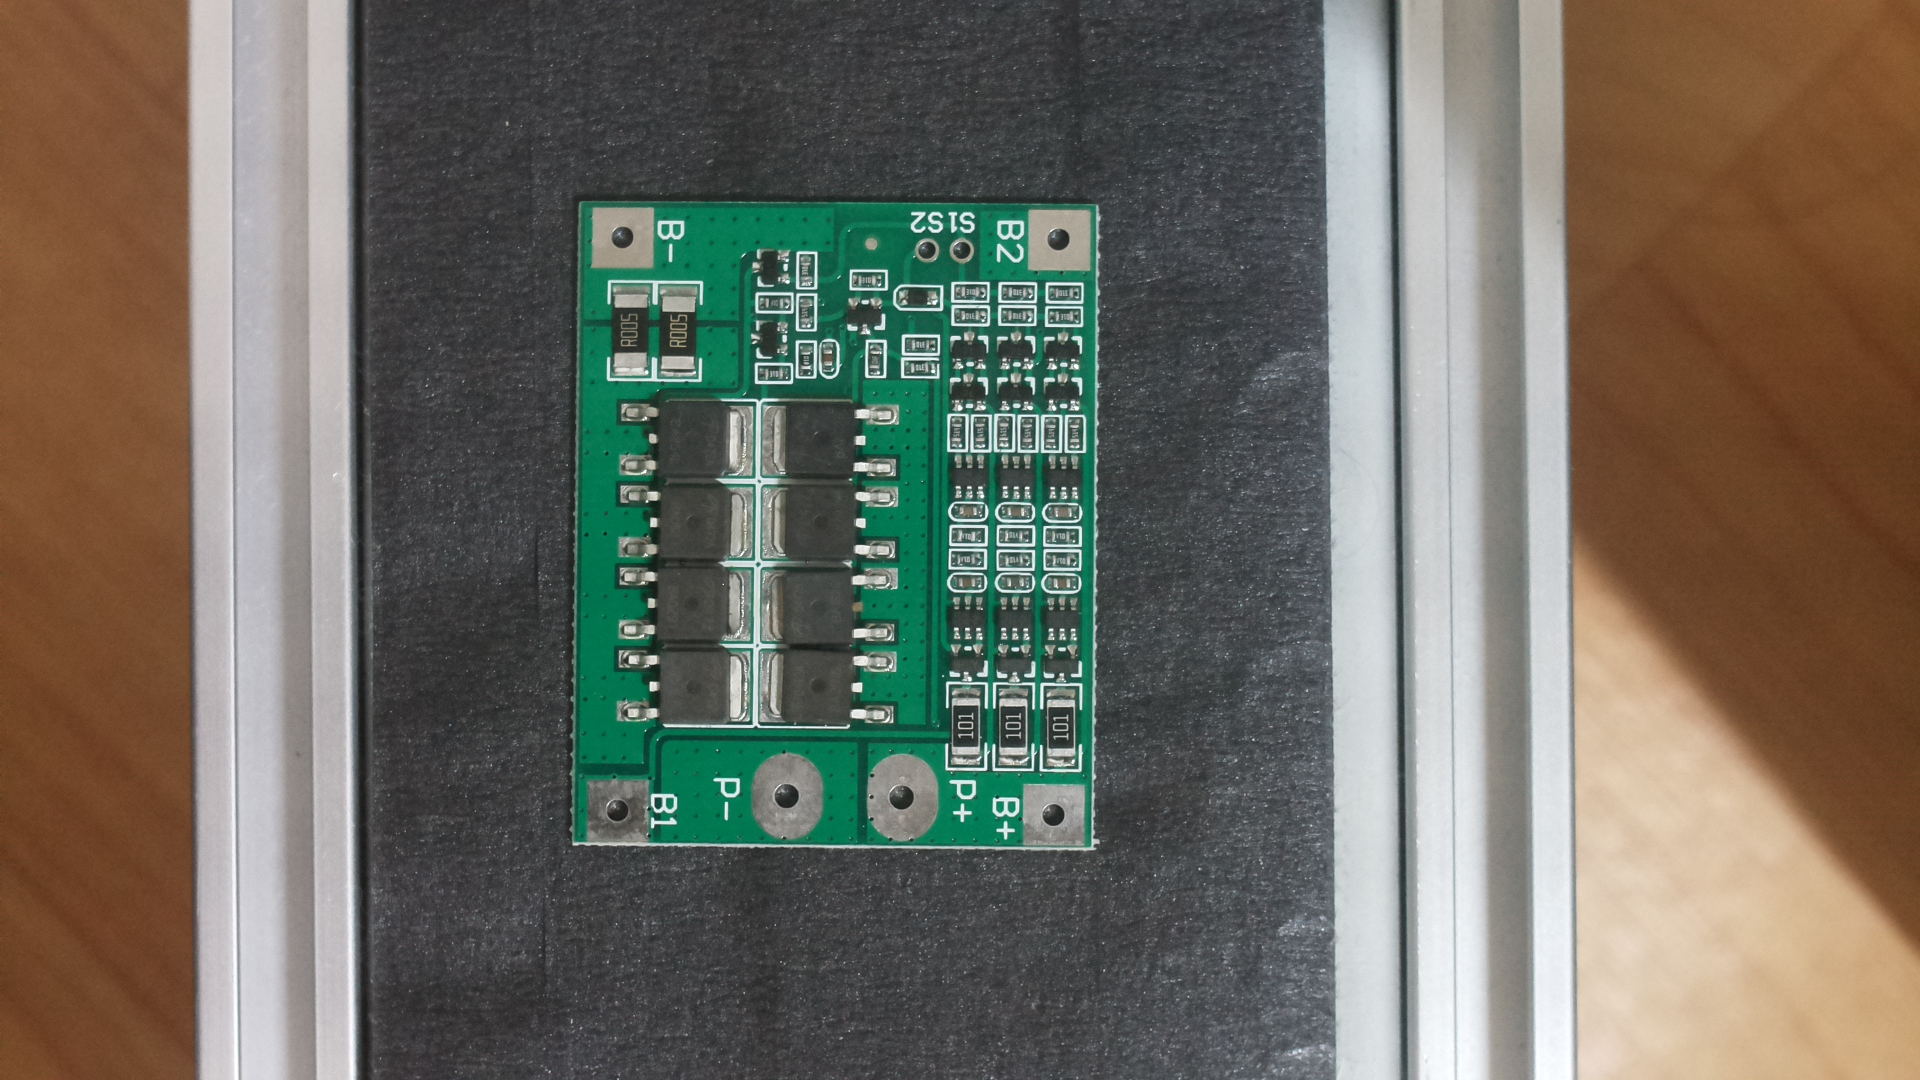C_Normal: (560, 185, 1120, 885)
